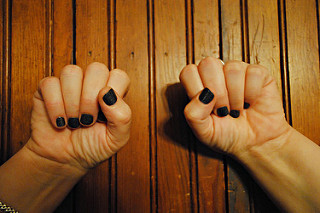fist: (184, 61, 292, 155), (38, 61, 121, 169)
